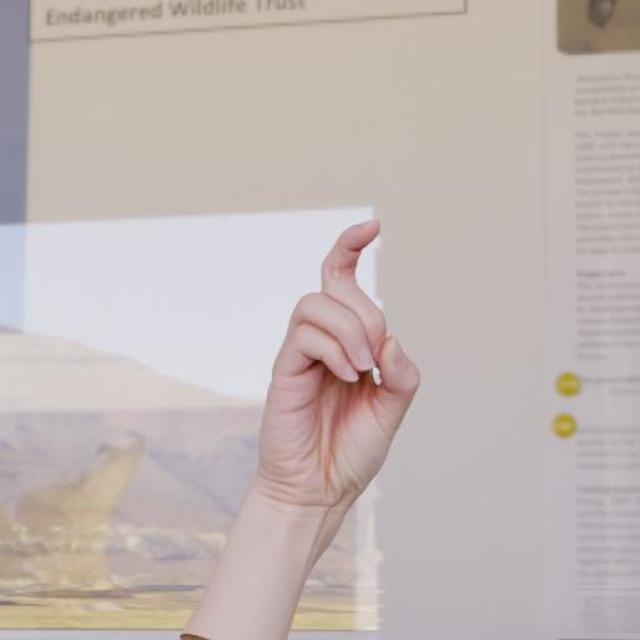X: (248, 213, 427, 514)
